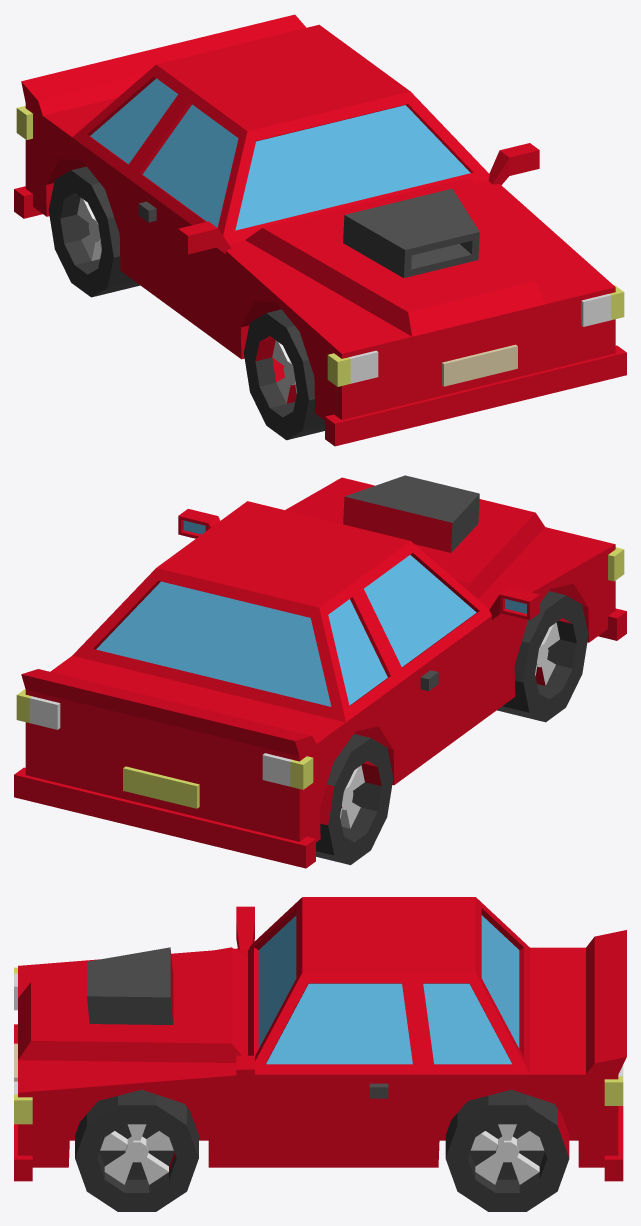
Rendered from Sports-car.glb.
3 views of the same model, one above another, from view 1: azimuth 30°, elevation 25°; view 2: azimuth 150°, elevation 25°; view 3: azimuth 270°, elevation 25° (orthographic). The views are drawn at different scales.
Visible parts, largest first — view 1: Cube.003; view 2: Cube.003; view 3: Cube.003.
Part boxes in pixels (x1=…): Cube.003: x1=14, y1=14, x2=626, y2=446; Cube.003: x1=14, y1=475, x2=626, y2=868; Cube.003: x1=14, y1=897, x2=626, y2=1211.
Size of the model in its own units: 2.57 by 1.56 by 4.08.
